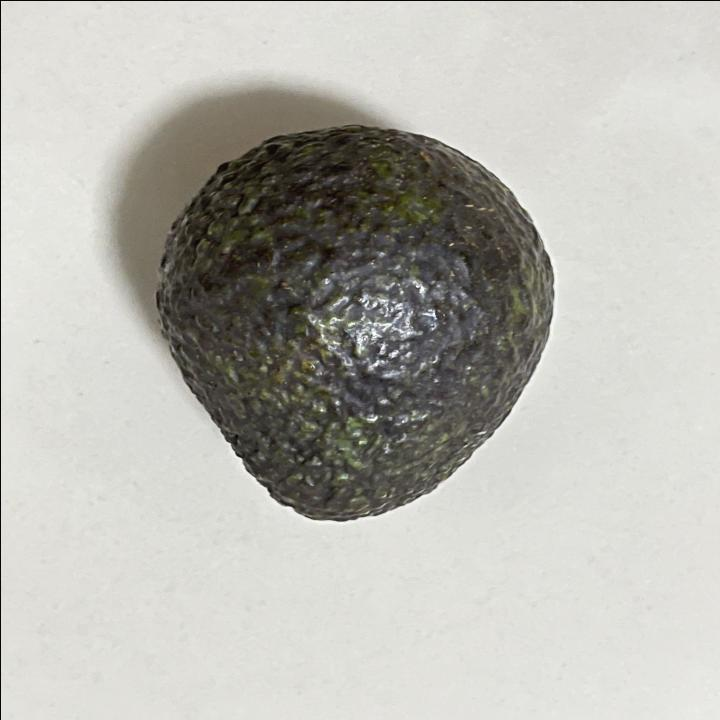Level1: (131, 110, 578, 538)
